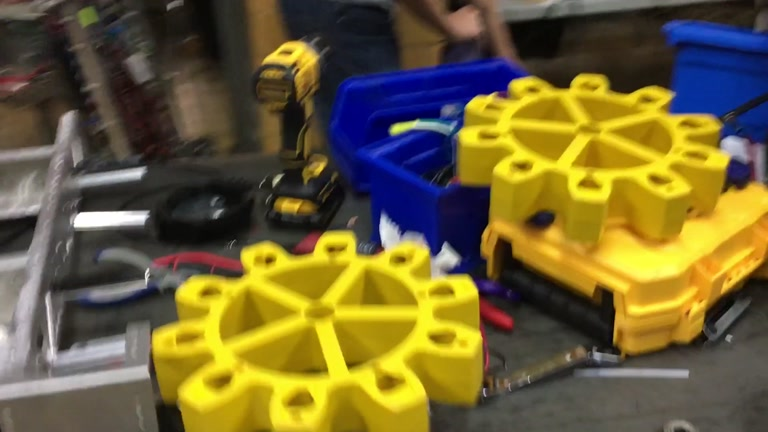gear: (150, 230, 483, 432), (455, 71, 729, 244)
